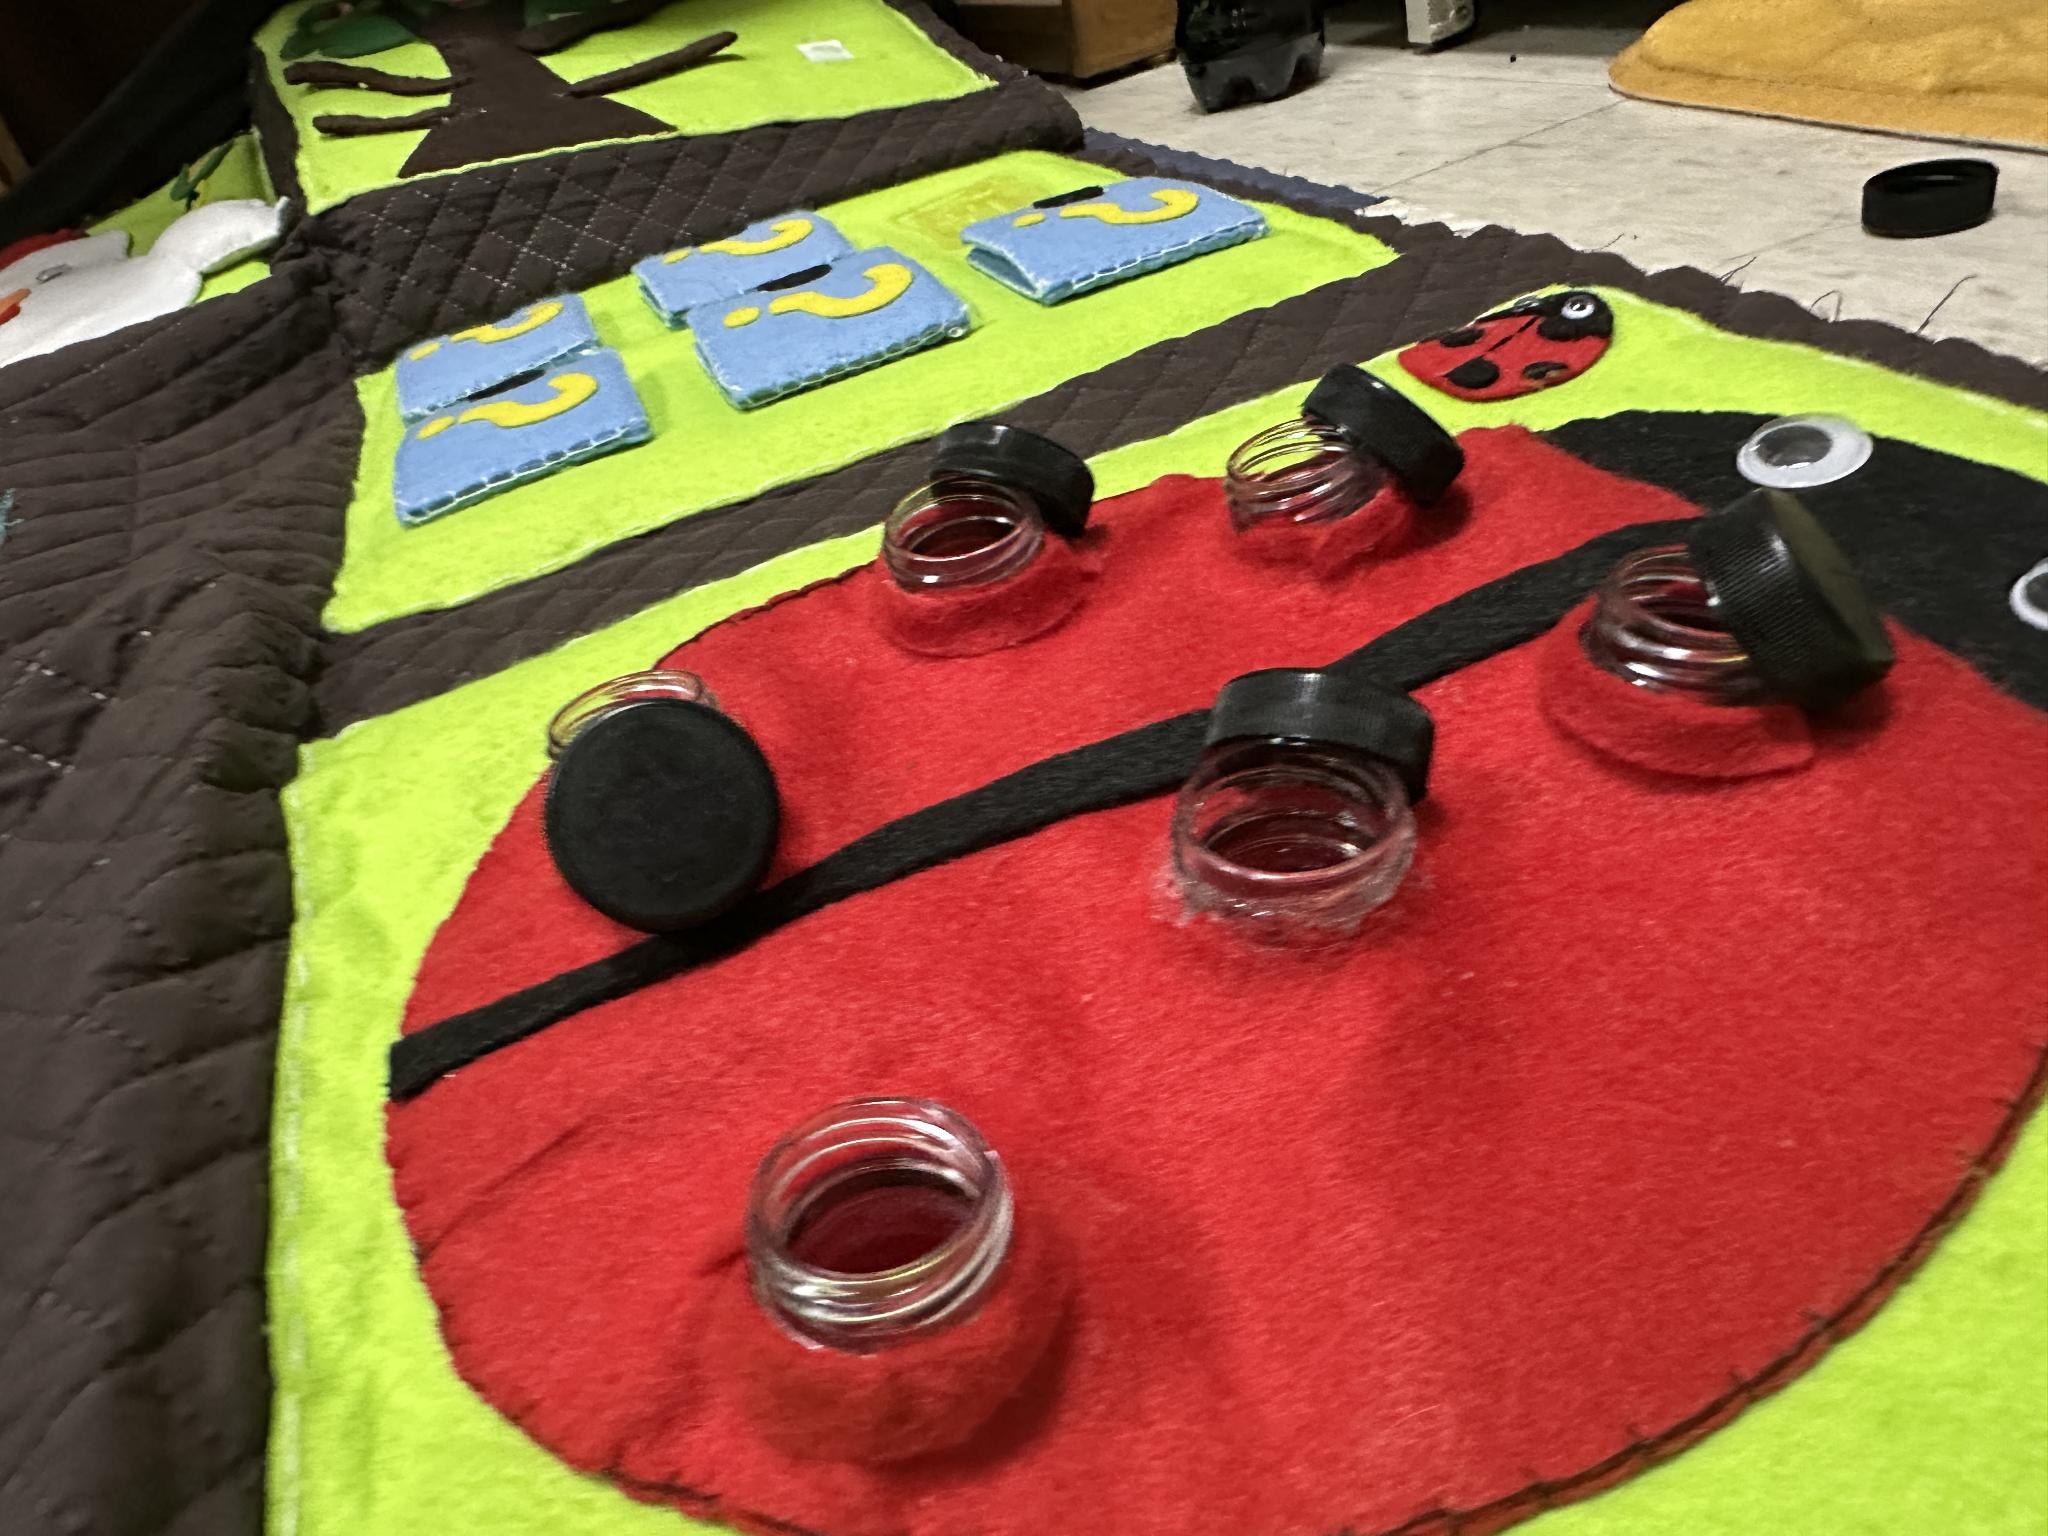cap_ng: (1551, 486, 1901, 805), (1145, 662, 1466, 945), (531, 653, 800, 947), (876, 415, 1106, 655), (1209, 360, 1469, 552)
